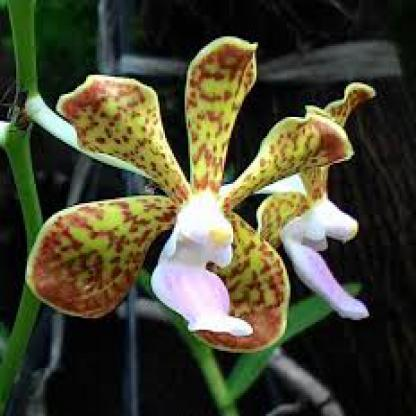ANGGREK: (32, 32, 387, 394)
